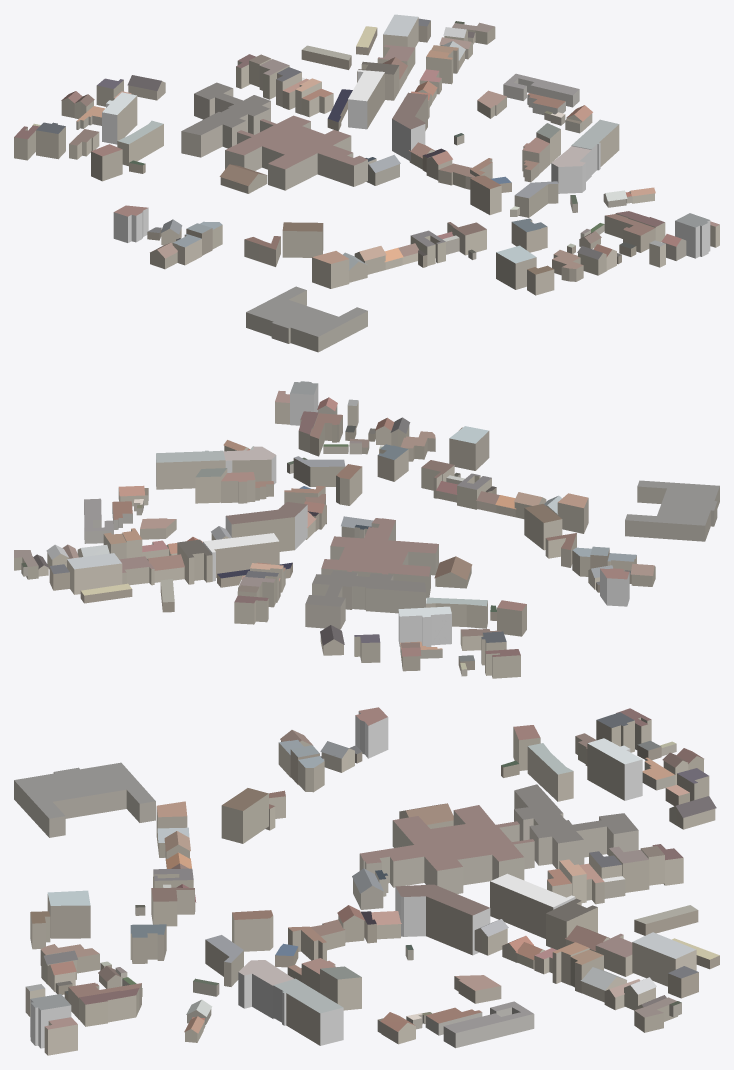
3 views of the same model, one above another, from view 1: azimuth 30°, elevation 25°; view 2: azimuth 150°, elevation 25°; view 3: azimuth 270°, elevation 25° (orthographic). The views are drawn at different scales.
Visible parts, largest first — view 1: tuile; view 2: tuile; view 3: tuile.
Boxes of the visible parts, x1,y1,x2,y2 form: tuile: (14,14,719,352); tuile: (14,381,719,678); tuile: (14,707,719,1055).
Size of the model in its own units: 267 by 33.43 by 266.
